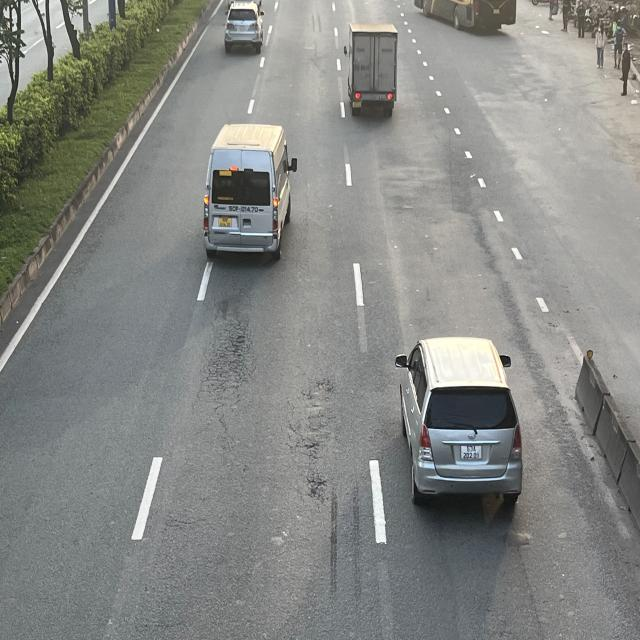car: (392, 336, 519, 506), (222, 0, 263, 53)
truck: (343, 21, 398, 116)
van: (202, 127, 297, 266)
